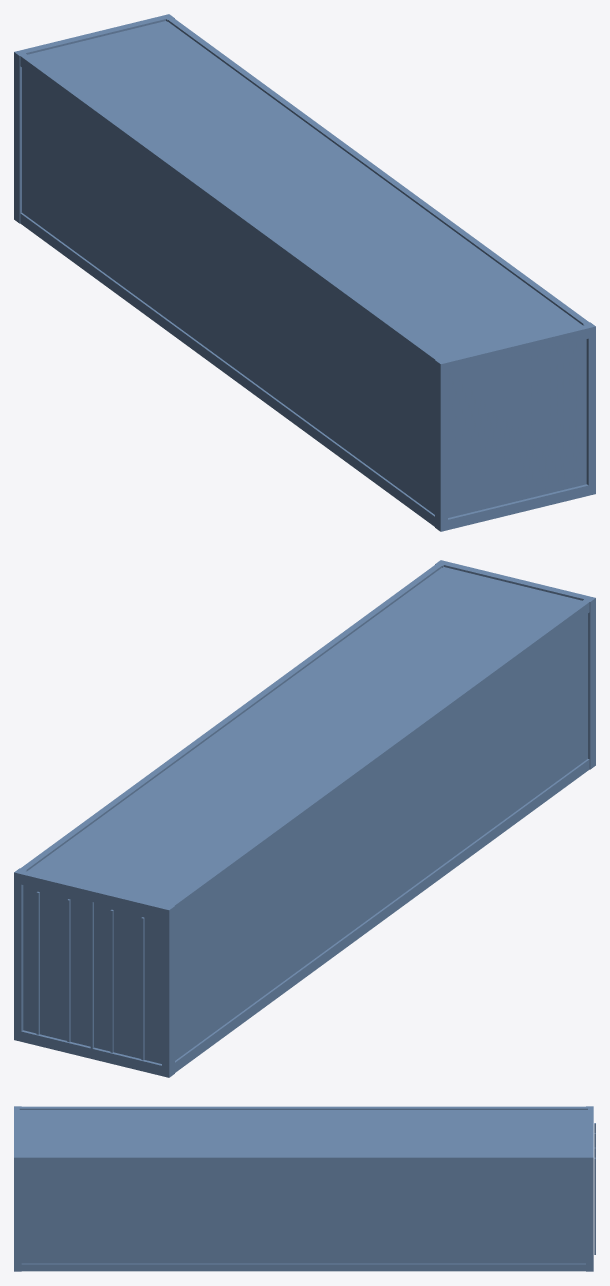
Rendered from container.glb.
3 renders of one model, top to bottom at view 1: azimuth 30°, elevation 25°; view 2: azimuth 150°, elevation 25°; view 3: azimuth 270°, elevation 25°, orthographic. The views are drawn at different scales.
Parts seen in each view (by area): view 1: container; view 2: container; view 3: container.
Boxes of the visible parts, x1,y1,x2,y2 form: container: [14, 14, 595, 531]; container: [14, 560, 595, 1077]; container: [14, 1106, 595, 1271].
Bounding box in the file's own units: 2.52 × 2.6 × 12.05.
